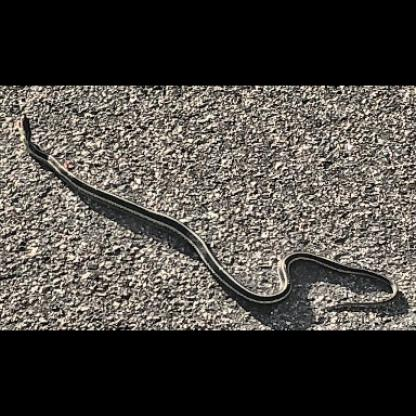Snake: (16, 93, 412, 328)
